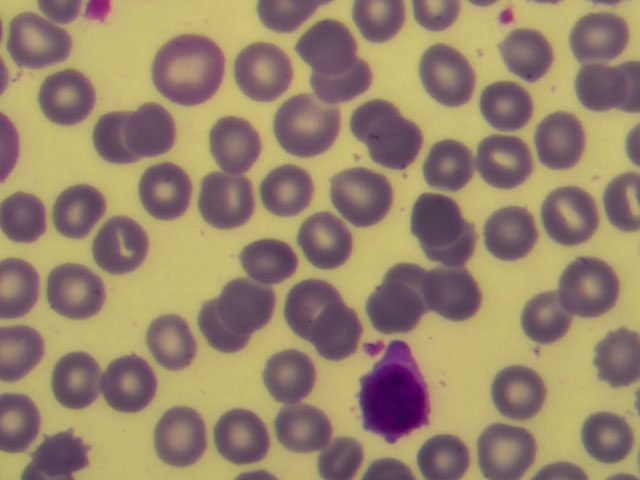Platelets: (82, 1, 116, 24), (499, 7, 519, 21)
RBC: (5, 12, 74, 75), (34, 67, 103, 130), (92, 209, 161, 272), (39, 262, 108, 325), (2, 256, 71, 319), (39, 346, 108, 409), (85, 350, 154, 413), (34, 417, 103, 480), (149, 405, 218, 468), (137, 316, 206, 379), (182, 297, 251, 360), (215, 274, 284, 337), (231, 231, 300, 294), (192, 170, 261, 233), (132, 161, 201, 224), (129, 98, 198, 161), (75, 106, 144, 169), (155, 33, 224, 96), (232, 43, 301, 106), (214, 97, 283, 160), (249, 149, 318, 212), (290, 208, 359, 271), (355, 120, 424, 183), (341, 86, 410, 149), (307, 53, 376, 116), (296, 14, 365, 77), (270, 95, 339, 158), (331, 163, 400, 226), (403, 182, 472, 245), (410, 134, 479, 197), (460, 133, 529, 196), (472, 76, 541, 139), (410, 46, 479, 109), (499, 23, 568, 86), (527, 106, 596, 169), (538, 183, 607, 246), (472, 201, 541, 264), (419, 218, 488, 281), (414, 262, 483, 325), (381, 243, 450, 306), (361, 276, 430, 339), (306, 304, 375, 367), (277, 273, 346, 336), (260, 335, 329, 398), (264, 398, 333, 461), (209, 408, 278, 471), (491, 353, 560, 416), (469, 417, 538, 480), (403, 417, 472, 480), (508, 285, 577, 348), (555, 254, 624, 317), (569, 54, 638, 117), (570, 1, 639, 64), (1, 320, 69, 383), (50, 177, 111, 237), (1, 188, 61, 248), (579, 407, 633, 465), (592, 325, 640, 389), (320, 442, 363, 480)
WBC: (356, 338, 445, 451)
